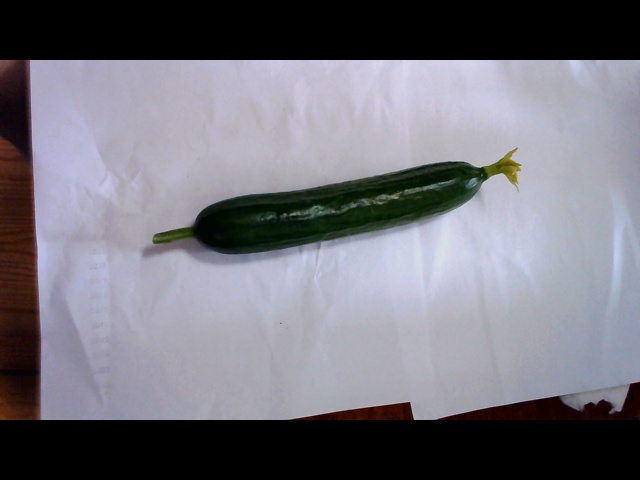cucumber: (146, 150, 538, 258)
